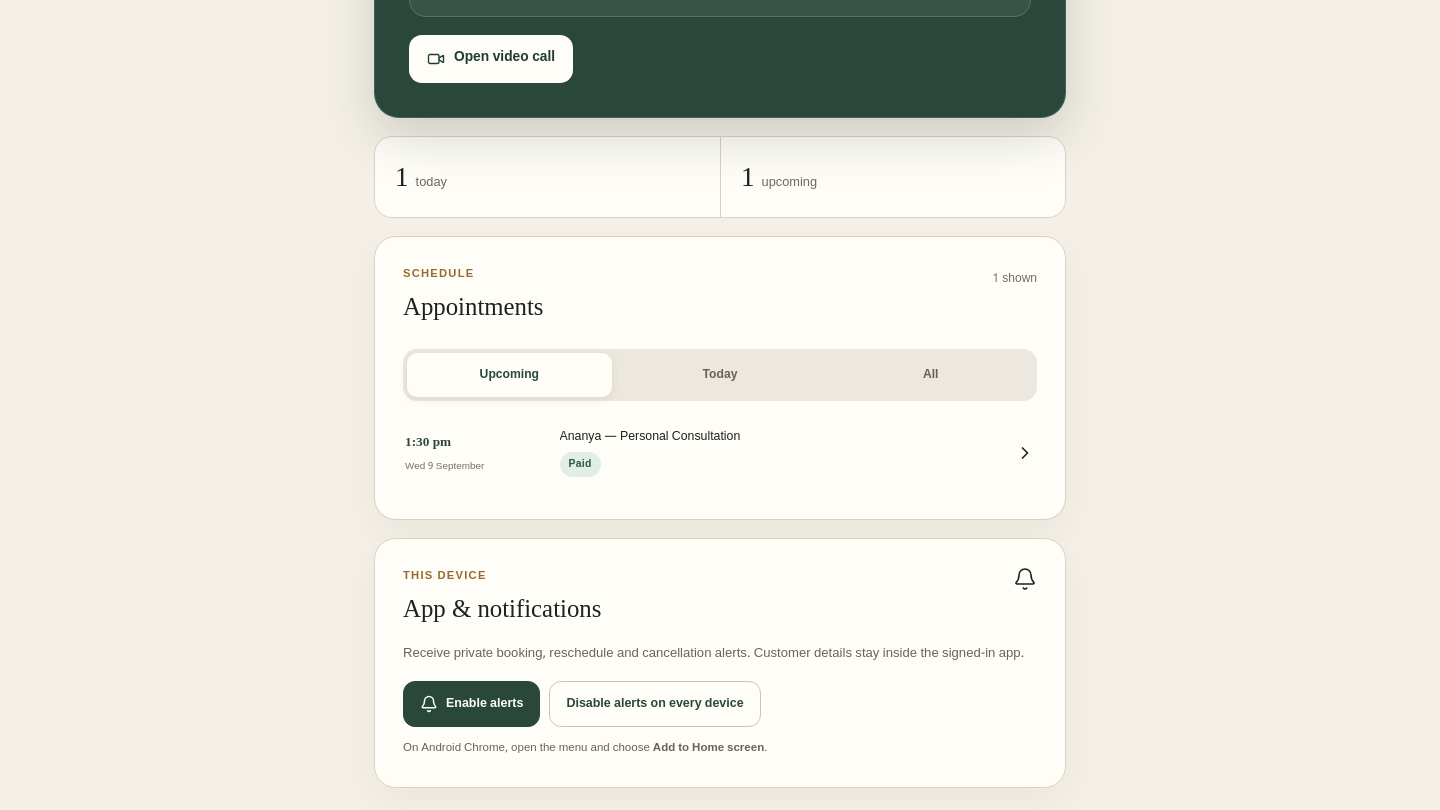
Test: Nakshatra Admin › opens the complete protected customer record
(page scrolled)
Click the button with aria-label "View Ananya details" at (428, 441), box top-left (403, 415), bottom-right (1037, 491)
(page scrolled)
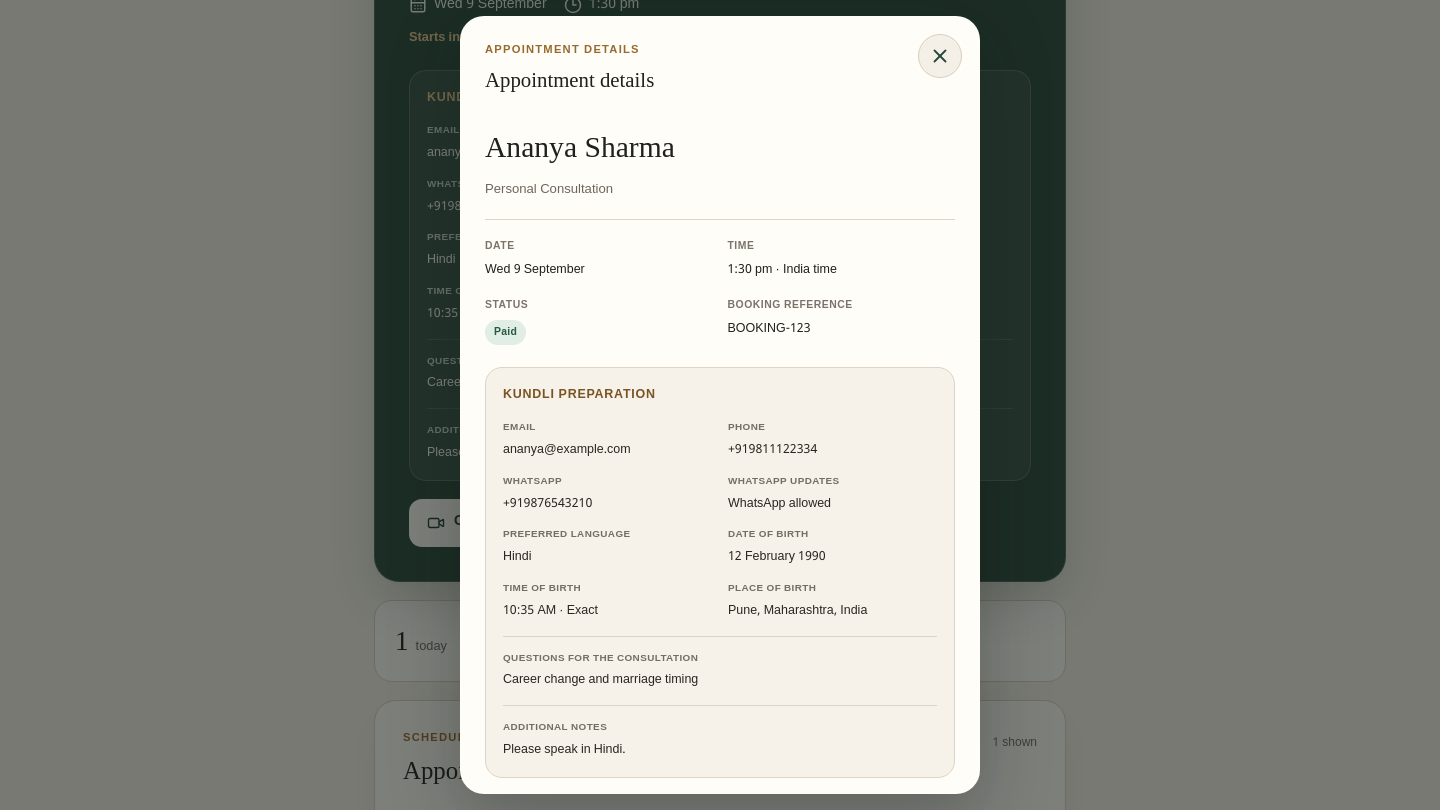
expect the text "ananya@example.com" below "Starts in 3 hr 30 min" is shown: met, box top-left (427, 145), bottom-right (555, 161)
expect the dialog "Appointment details" is shown: met, box top-left (460, 16), bottom-right (980, 794)
expect the text "Booking reference" is shown: met, box top-left (728, 299), bottom-right (853, 312)
